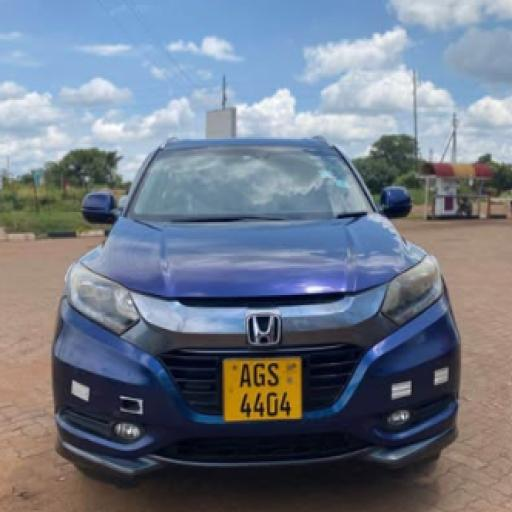number-plates: (224, 358, 296, 419)
